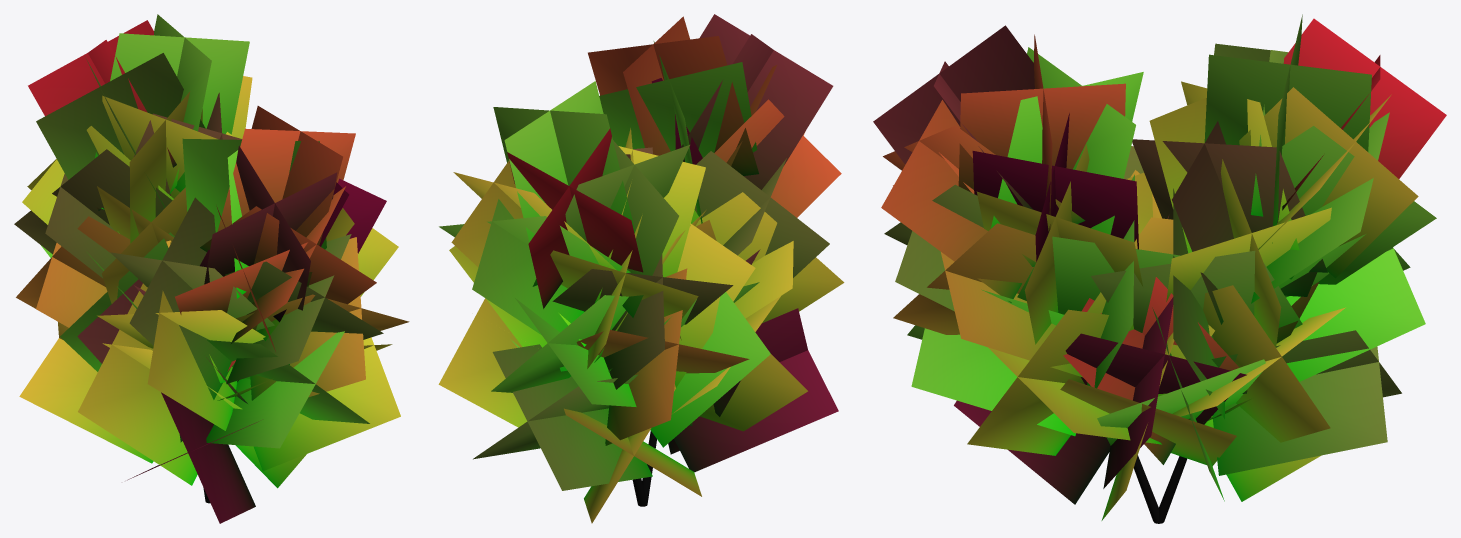
The model's file is Tree_8.fbx.
3 renders of one model, left to right at view 1: azimuth 30°, elevation 25°; view 2: azimuth 150°, elevation 25°; view 3: azimuth 270°, elevation 25°, orthographic. The views are drawn at different scales.
Visible parts, largest first — view 1: Tree_8; view 2: Tree_8; view 3: Tree_8.
Part boxes in pixels (x1=…): Tree_8: x1=14, y1=14, x2=409, y2=523; Tree_8: x1=438, y1=14, x2=844, y2=523; Tree_8: x1=873, y1=14, x2=1446, y2=523.
Size of the model in its own units: 1077 by 1485 by 1570.
